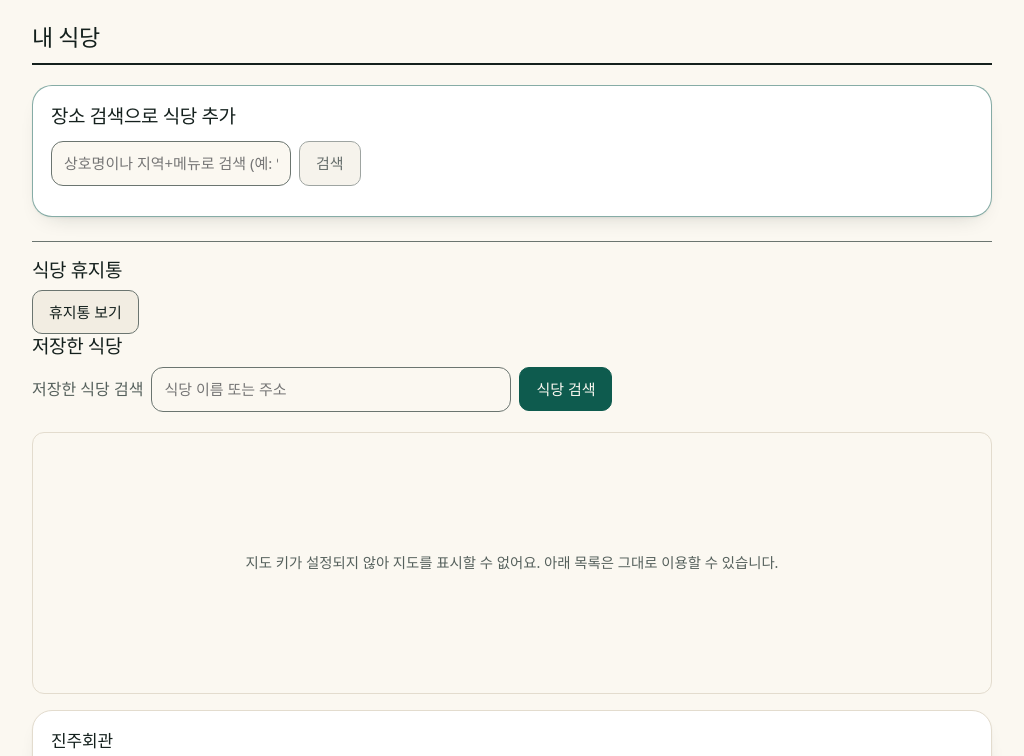
Scenario: 저장한 식당 검색 › 입력 중에는 조회하지 않고 제출할 때 공백을 제거한 검색어로 조회한다
Type "  중구  " into the search field labelled "저장한 식당 검색" at x=331, y=389, box [151,367,511,412]
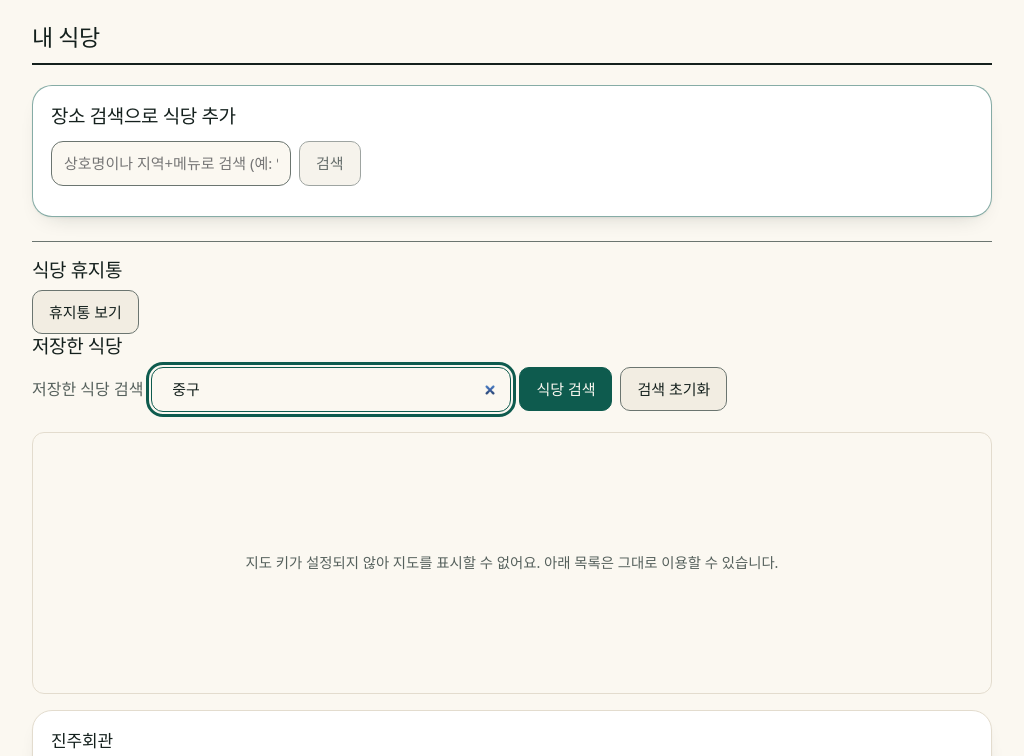
Press Enter
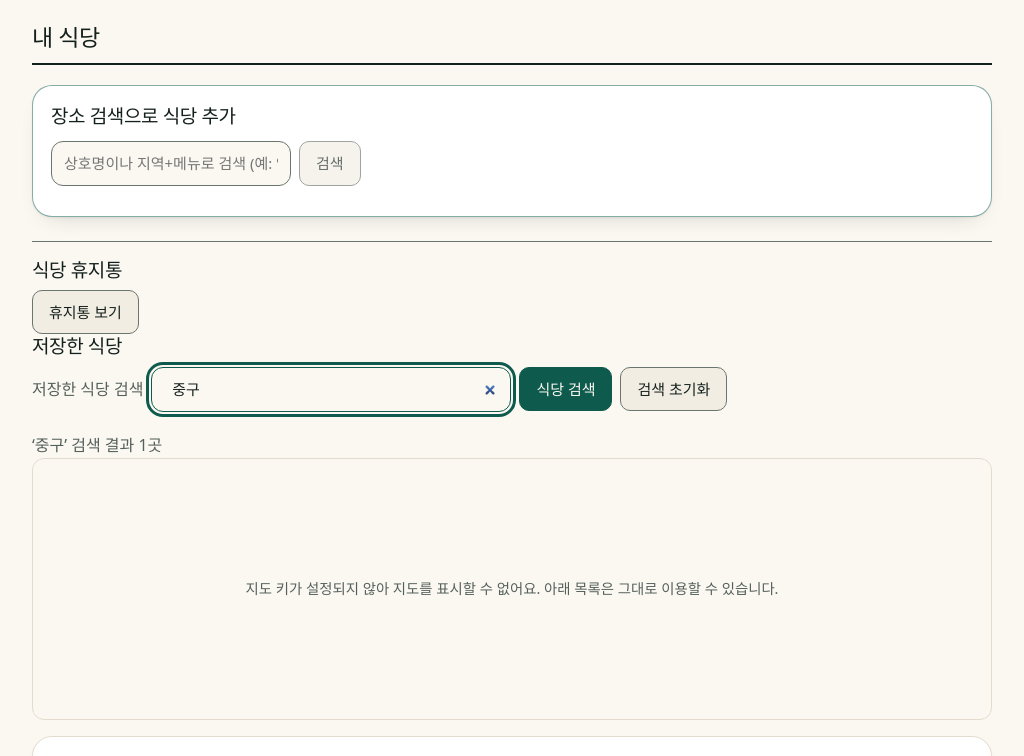
Expected: the text "‘중구’ 검색 결과 1곳" is shown, [32,434,162,456]
